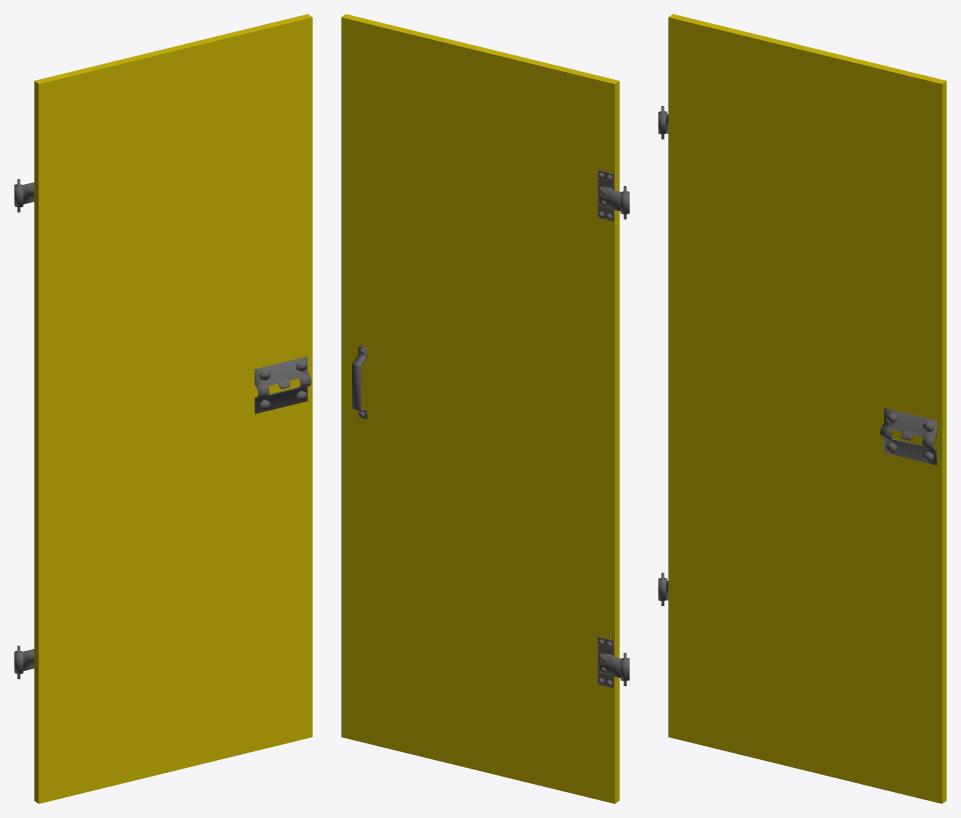
Rendered from SNWP_MOD_BUN_Stall_door_01.fbx.
3 views of the same model, side by side, from view 1: azimuth 30°, elevation 25°; view 2: azimuth 150°, elevation 25°; view 3: azimuth 330°, elevation 25° (orthographic).
Parts seen in each view (by area): view 1: SNWP_MOD_Stall_door_01; view 2: SNWP_MOD_Stall_door_01; view 3: SNWP_MOD_Stall_door_01.
Part boxes in pixels (x1,y1,x2,y2): SNWP_MOD_Stall_door_01: [14, 14, 312, 803]; SNWP_MOD_Stall_door_01: [341, 14, 629, 803]; SNWP_MOD_Stall_door_01: [658, 14, 946, 803].
Bounding box in the file's own units: 0.7174 × 1.7 × 0.0677.
